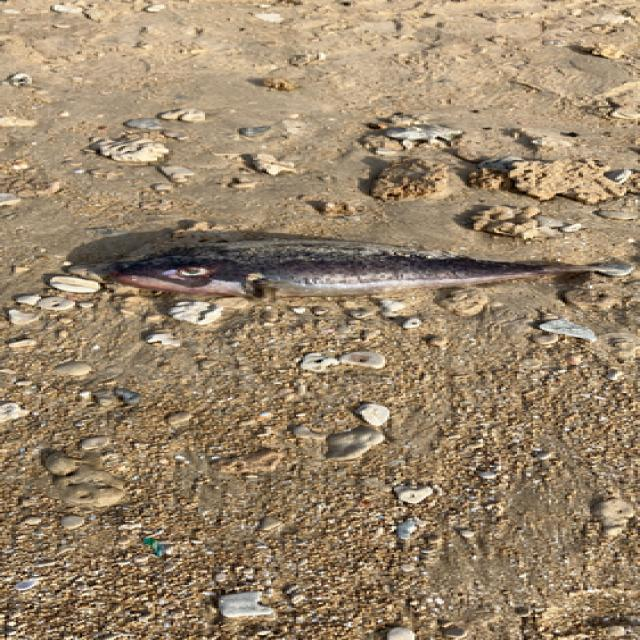Balik: (110, 240, 633, 296)
